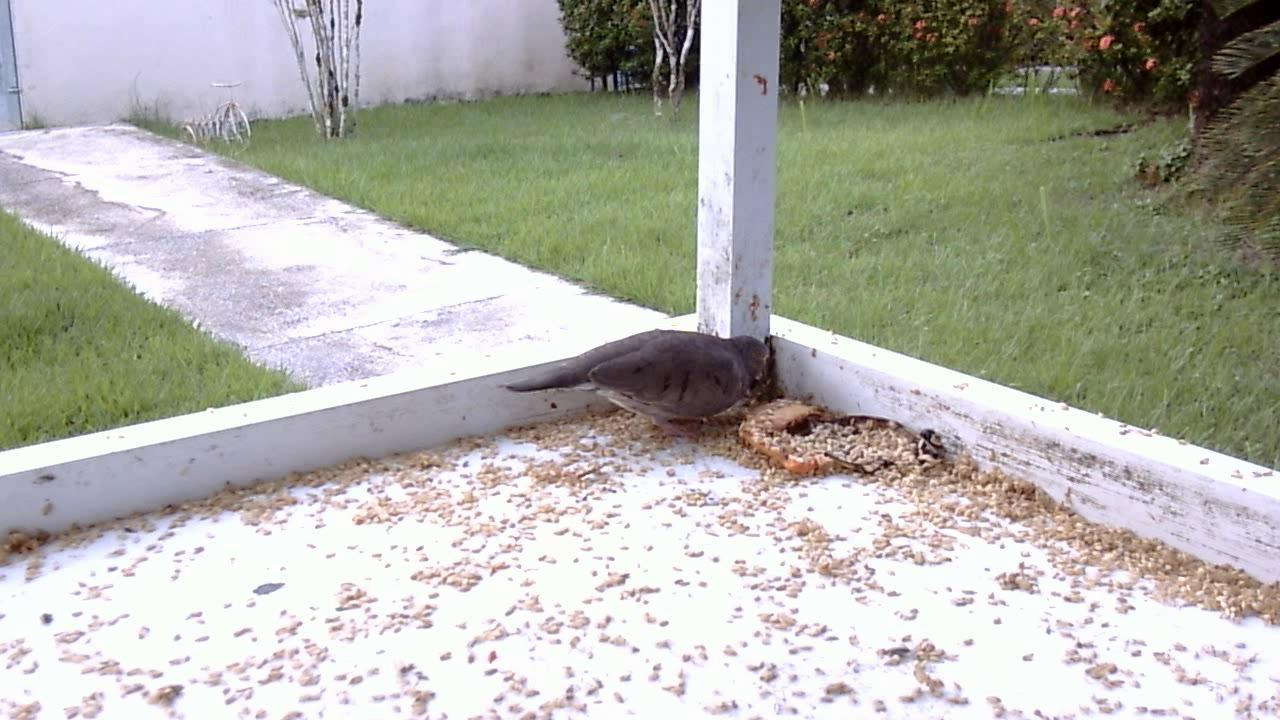rolinha: (494, 315, 780, 445)
